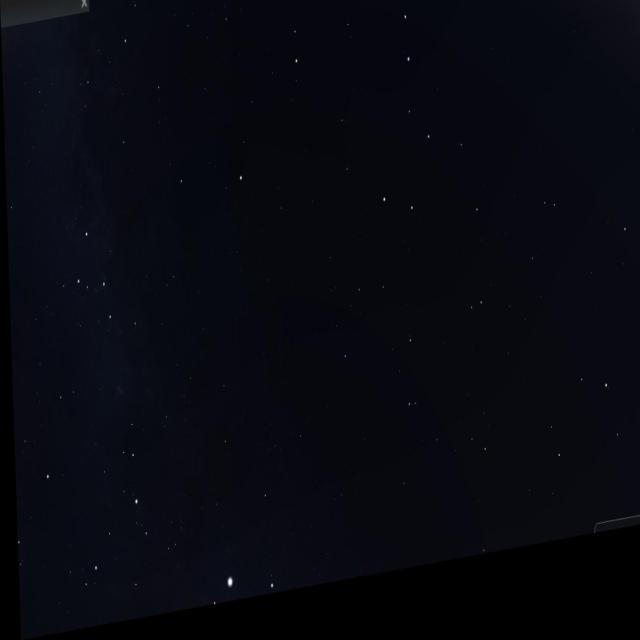ursa_major: (356, 0, 449, 256)
